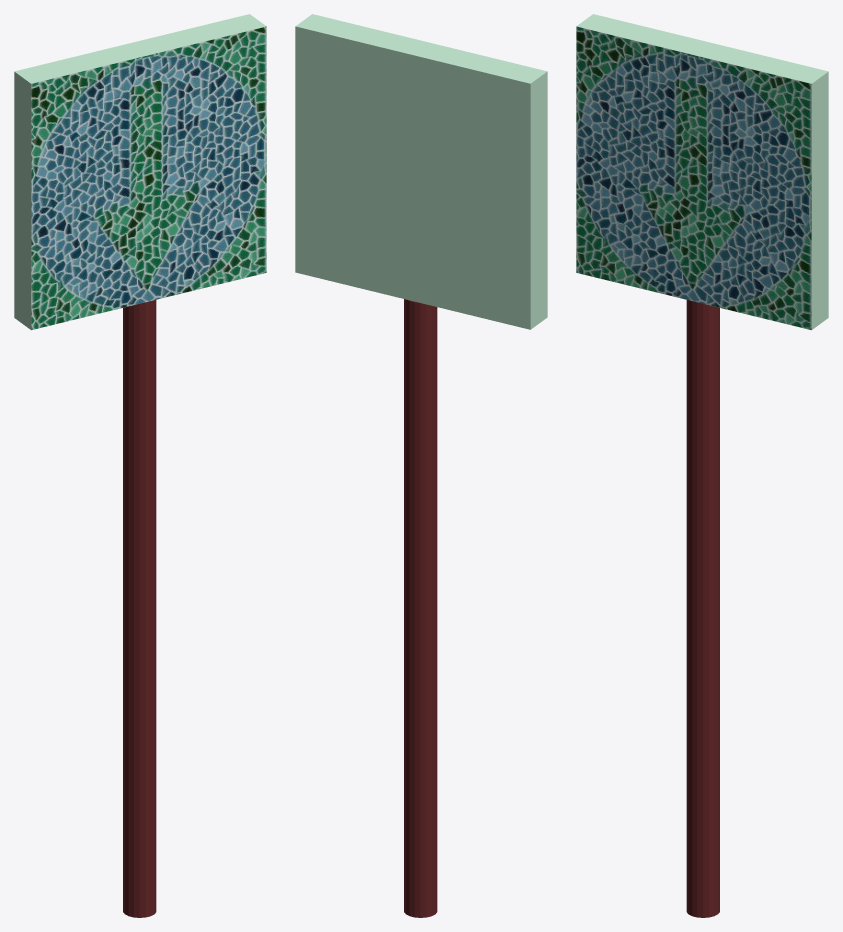
Rendered from nakaz.dae.
3 renders of one model, left to right at view 1: azimuth 30°, elevation 25°; view 2: azimuth 150°, elevation 25°; view 3: azimuth 330°, elevation 25°, orthographic.
Visible parts, largest first — view 1: BSD_Material_t_nakaz__14, CSD_Material_t_nakaz__37, BSD_Material_t_nakaz__15; view 2: BSD_Material_t_nakaz__15, CSD_Material_t_nakaz__37; view 3: BSD_Material_t_nakaz__14, CSD_Material_t_nakaz__37, BSD_Material_t_nakaz__15.
Part boxes in pixels (x1,y1,x2,y2): BSD_Material_t_nakaz__14: [31, 26, 266, 329]; CSD_Material_t_nakaz__37: [123, 300, 156, 917]; BSD_Material_t_nakaz__15: [14, 14, 266, 329]; BSD_Material_t_nakaz__15: [295, 14, 547, 329]; CSD_Material_t_nakaz__37: [404, 299, 437, 917]; BSD_Material_t_nakaz__14: [576, 26, 811, 329]; CSD_Material_t_nakaz__37: [686, 300, 719, 917]; BSD_Material_t_nakaz__15: [576, 14, 828, 329].
Size of the model in its own units: 1.57 by 0.2043 by 5.51.
